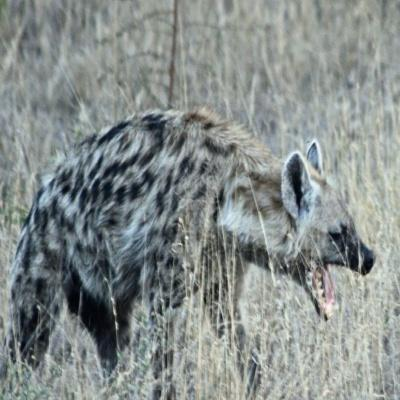hyenas: (3, 84, 374, 400)
